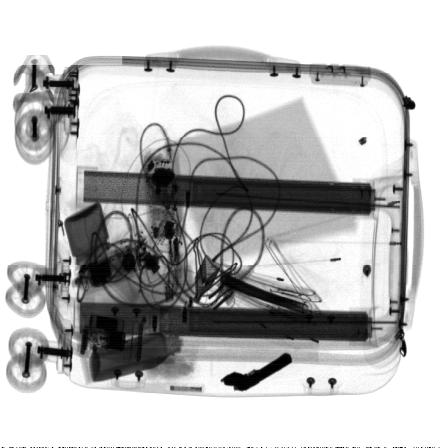Gun: (221, 353, 293, 392)
